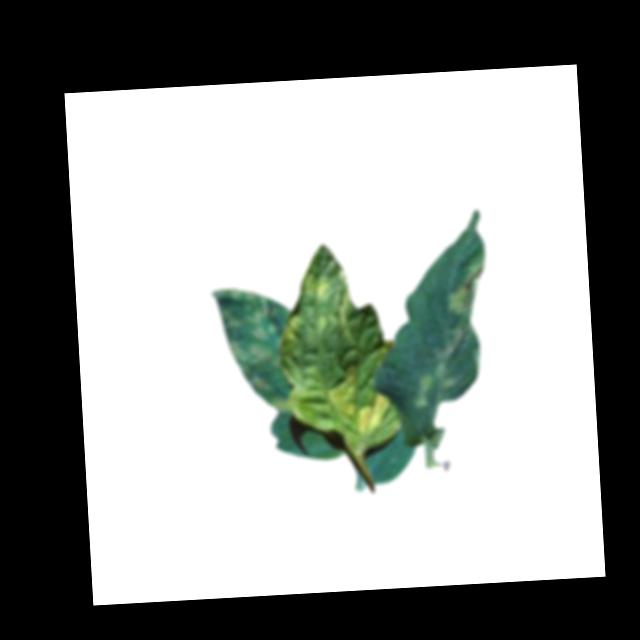Leaf_Mold: (213, 283, 291, 414), (445, 257, 489, 319), (357, 388, 400, 439), (325, 361, 357, 418), (411, 371, 438, 411), (304, 271, 329, 299)
